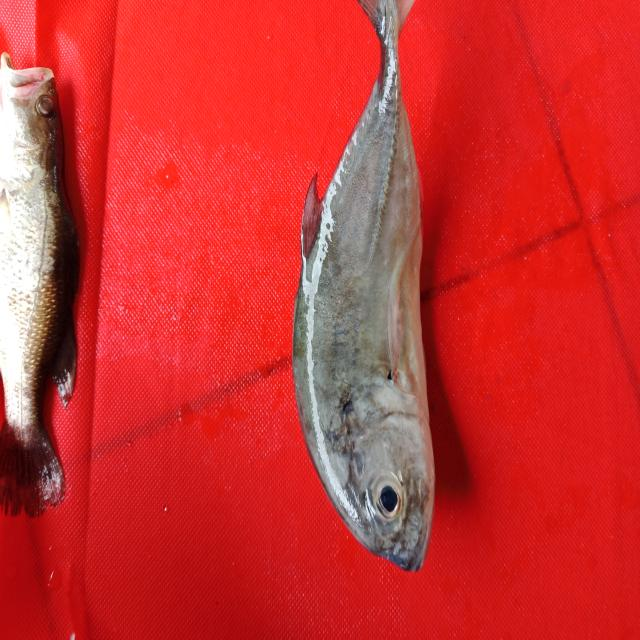ikan: (284, 5, 452, 589), (3, 51, 90, 512)
